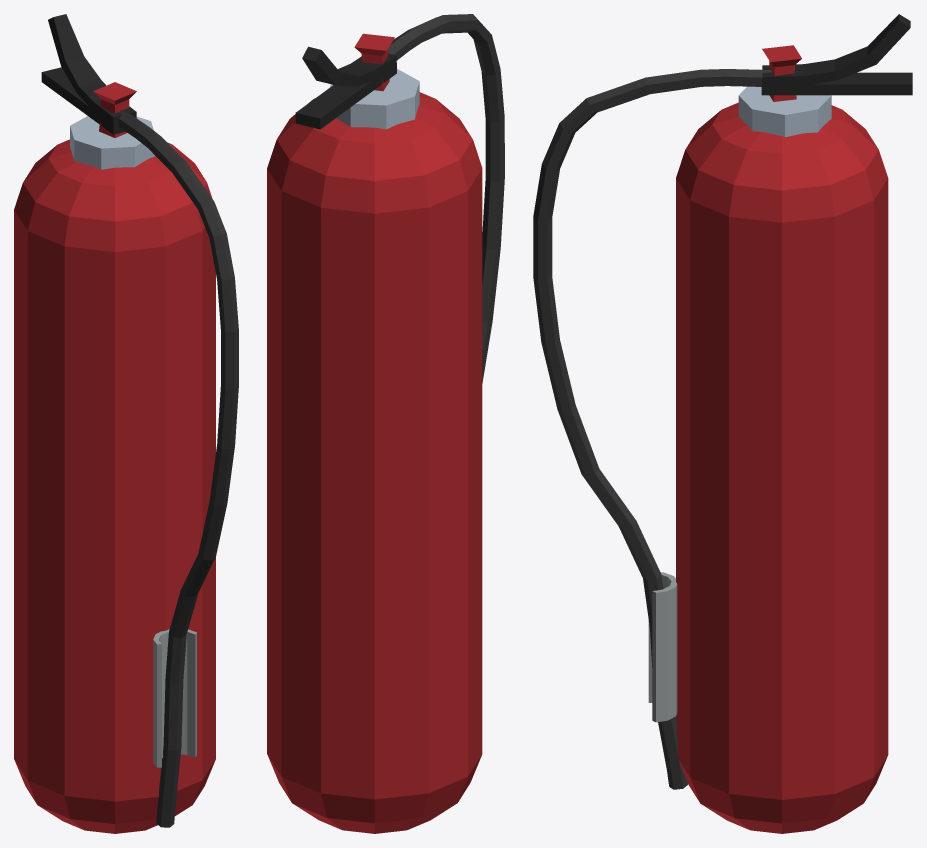
Rendered from SM_fire_extinguisher.fbx.
3 views of the same model, side by side, from view 1: azimuth 30°, elevation 25°; view 2: azimuth 150°, elevation 25°; view 3: azimuth 270°, elevation 25° (orthographic). The views are drawn at different scales.
Visible parts, largest first — view 1: fire_extinguisher; view 2: fire_extinguisher; view 3: fire_extinguisher.
Boxes of the visible parts, x1,y1,x2,y2 form: fire_extinguisher: (14, 14, 238, 833); fire_extinguisher: (267, 14, 504, 833); fire_extinguisher: (533, 14, 912, 833).
Bounding box in the file's own units: 27.69 × 114 × 49.52.
